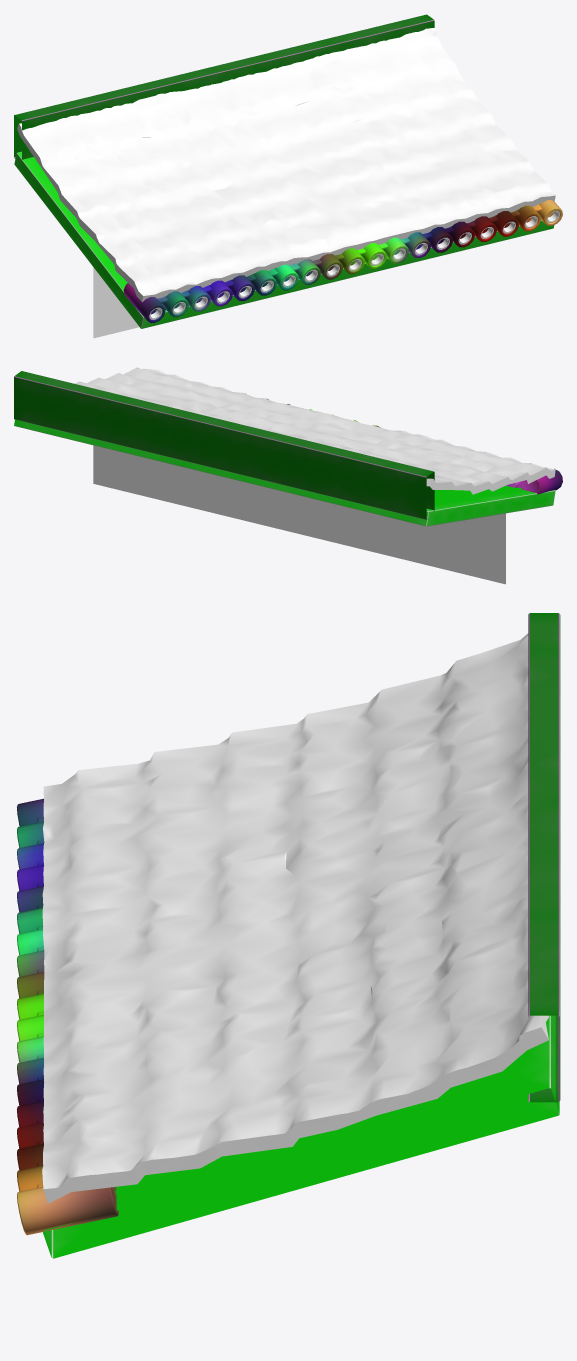
The model's file is wall_roof_fenced_300_01.fbx.
3 renders of one model, top to bottom at view 1: azimuth 30°, elevation 25°; view 2: azimuth 150°, elevation 25°; view 3: azimuth 270°, elevation 25°, orthographic. The views are drawn at different scales.
Parts seen in each view (by area): view 1: wall_roof_fenced_300_01; view 2: wall_roof_fenced_300_01; view 3: wall_roof_fenced_300_01.
Part boxes in pixels (bbox=[...]): wall_roof_fenced_300_01: bbox=[14, 14, 562, 338]; wall_roof_fenced_300_01: bbox=[14, 367, 562, 584]; wall_roof_fenced_300_01: bbox=[17, 613, 560, 1258].
Size of the model in its own units: 3.03 by 1.15 by 1.71.
